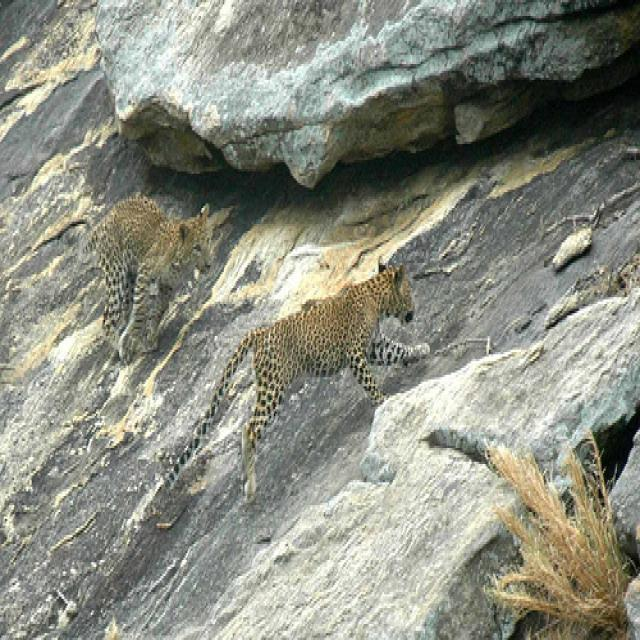Leopard: (160, 256, 433, 505), (79, 199, 214, 354)
